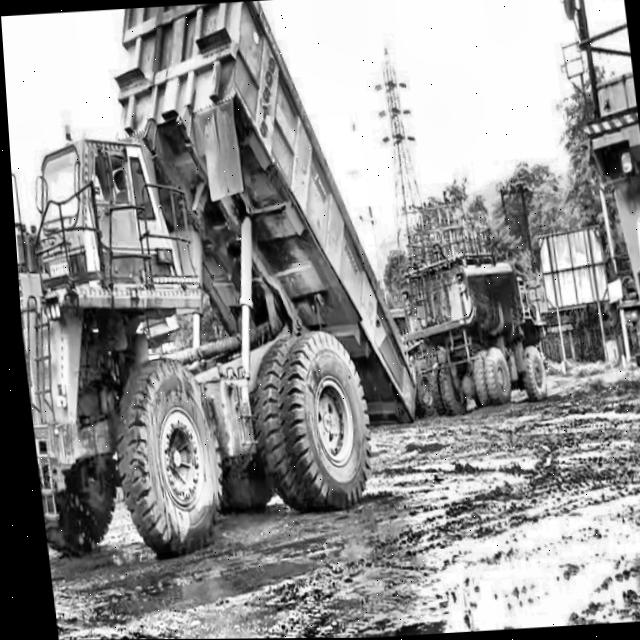dump_truck: (0, 0, 422, 537)
